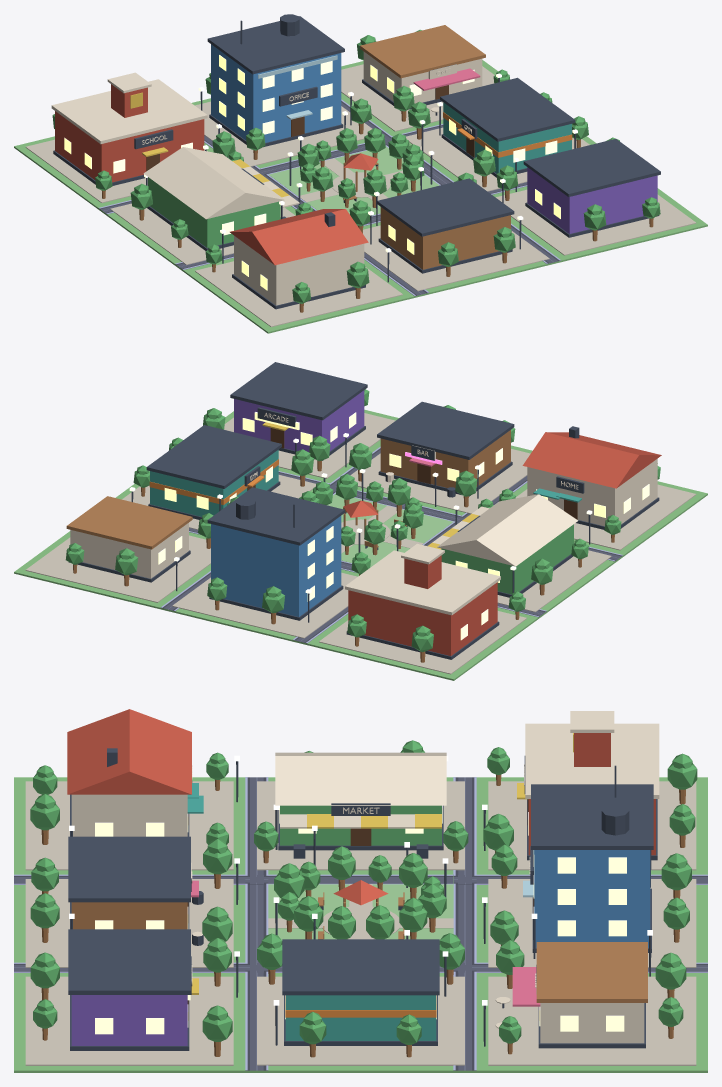
File: city.glb
The picture shows the model from 3 angles, top to bottom: view 1: azimuth 30°, elevation 25°; view 2: azimuth 150°, elevation 25°; view 3: azimuth 270°, elevation 25°; orthographic projection. The views are drawn at different scales.
Visible parts, largest first — view 1: city_pavement, building_office, city_trees, building_school, building_home, building_market, building_arcade, building_bar, building_gym, city_ground, building_cafe, city_park (+2 smaller); view 2: city_pavement, building_office, building_school, city_trees, building_home, building_arcade, building_bar, building_market, building_gym, city_ground, building_cafe, city_park (+2 smaller); view 3: city_pavement, city_trees, city_ground, building_office, building_market, building_gym, building_arcade, building_home, building_cafe, city_roads, building_bar, building_school (+2 smaller).
Boxes of the visible parts, box(x1,y1,x2,y2) form: city_pavement: box(25, 64, 696, 327); building_office: box(207, 14, 344, 147); city_trees: box(52, 29, 660, 312); building_school: box(51, 72, 207, 185); building_home: box(230, 209, 368, 309); building_market: box(143, 147, 299, 250); building_arcade: box(523, 139, 660, 237); building_bar: box(377, 178, 514, 273); building_gym: box(440, 77, 575, 177); city_ground: box(14, 60, 707, 333); building_cafe: box(360, 25, 485, 115); city_park: box(269, 146, 439, 215); city_pavement: box(25, 413, 696, 674); building_office: box(207, 487, 344, 620); building_school: box(345, 543, 500, 659); city_trees: box(65, 389, 660, 662); building_home: box(522, 426, 661, 529); building_arcade: box(230, 362, 367, 460); building_bar: box(377, 401, 514, 497); building_market: box(427, 494, 578, 597); building_gym: box(146, 425, 281, 519); city_ground: box(14, 409, 707, 680); building_cafe: box(66, 496, 192, 582); city_park: box(327, 493, 453, 567); city_pavement: box(25, 781, 696, 1065); city_trees: box(30, 740, 697, 1057); city_ground: box(14, 777, 707, 1072); building_office: box(523, 765, 653, 952); building_market: box(275, 752, 446, 858); building_gym: box(282, 939, 439, 1045); building_arcade: box(68, 929, 198, 1050); building_home: box(67, 709, 203, 836); building_cafe: box(495, 942, 647, 1048); city_roads: box(14, 777, 707, 1070); building_bar: box(68, 836, 203, 945); building_school: box(517, 711, 659, 860).
Bounding box in the file's own units: 60 × 13.61 × 60.
Materials: 22 (2 with a texture image).
